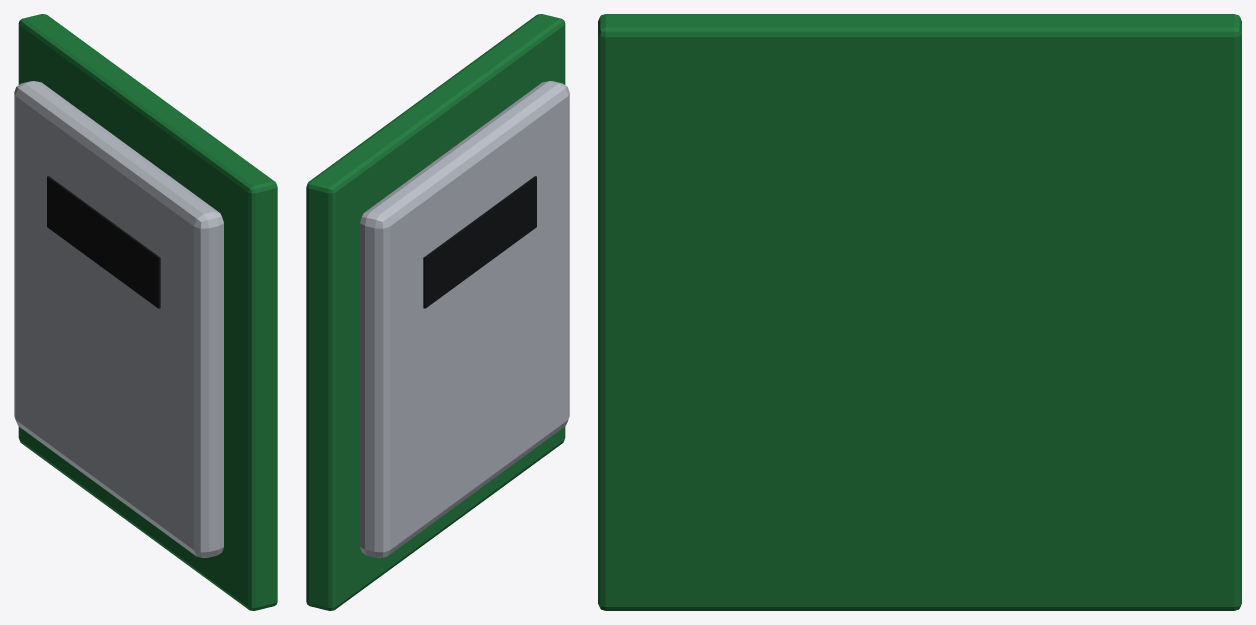
The model's file is cpu.glb.
The picture shows the model from 3 angles, left to right: view 1: azimuth 30°, elevation 25°; view 2: azimuth 150°, elevation 25°; view 3: azimuth 270°, elevation 25°; orthographic projection. The views are drawn at different scales.
Visible parts, largest first — view 1: cpu; view 2: cpu; view 3: cpu.
Part boxes in pixels (bbox=[...]): cpu: bbox=[14, 14, 277, 610]; cpu: bbox=[306, 14, 569, 610]; cpu: bbox=[598, 14, 1241, 610].
Bounding box in the file's own units: 0.062 × 0.42 × 0.42.
